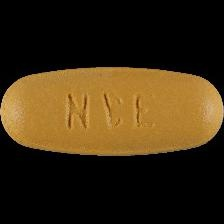0078-0488: (0, 0, 224, 224)
